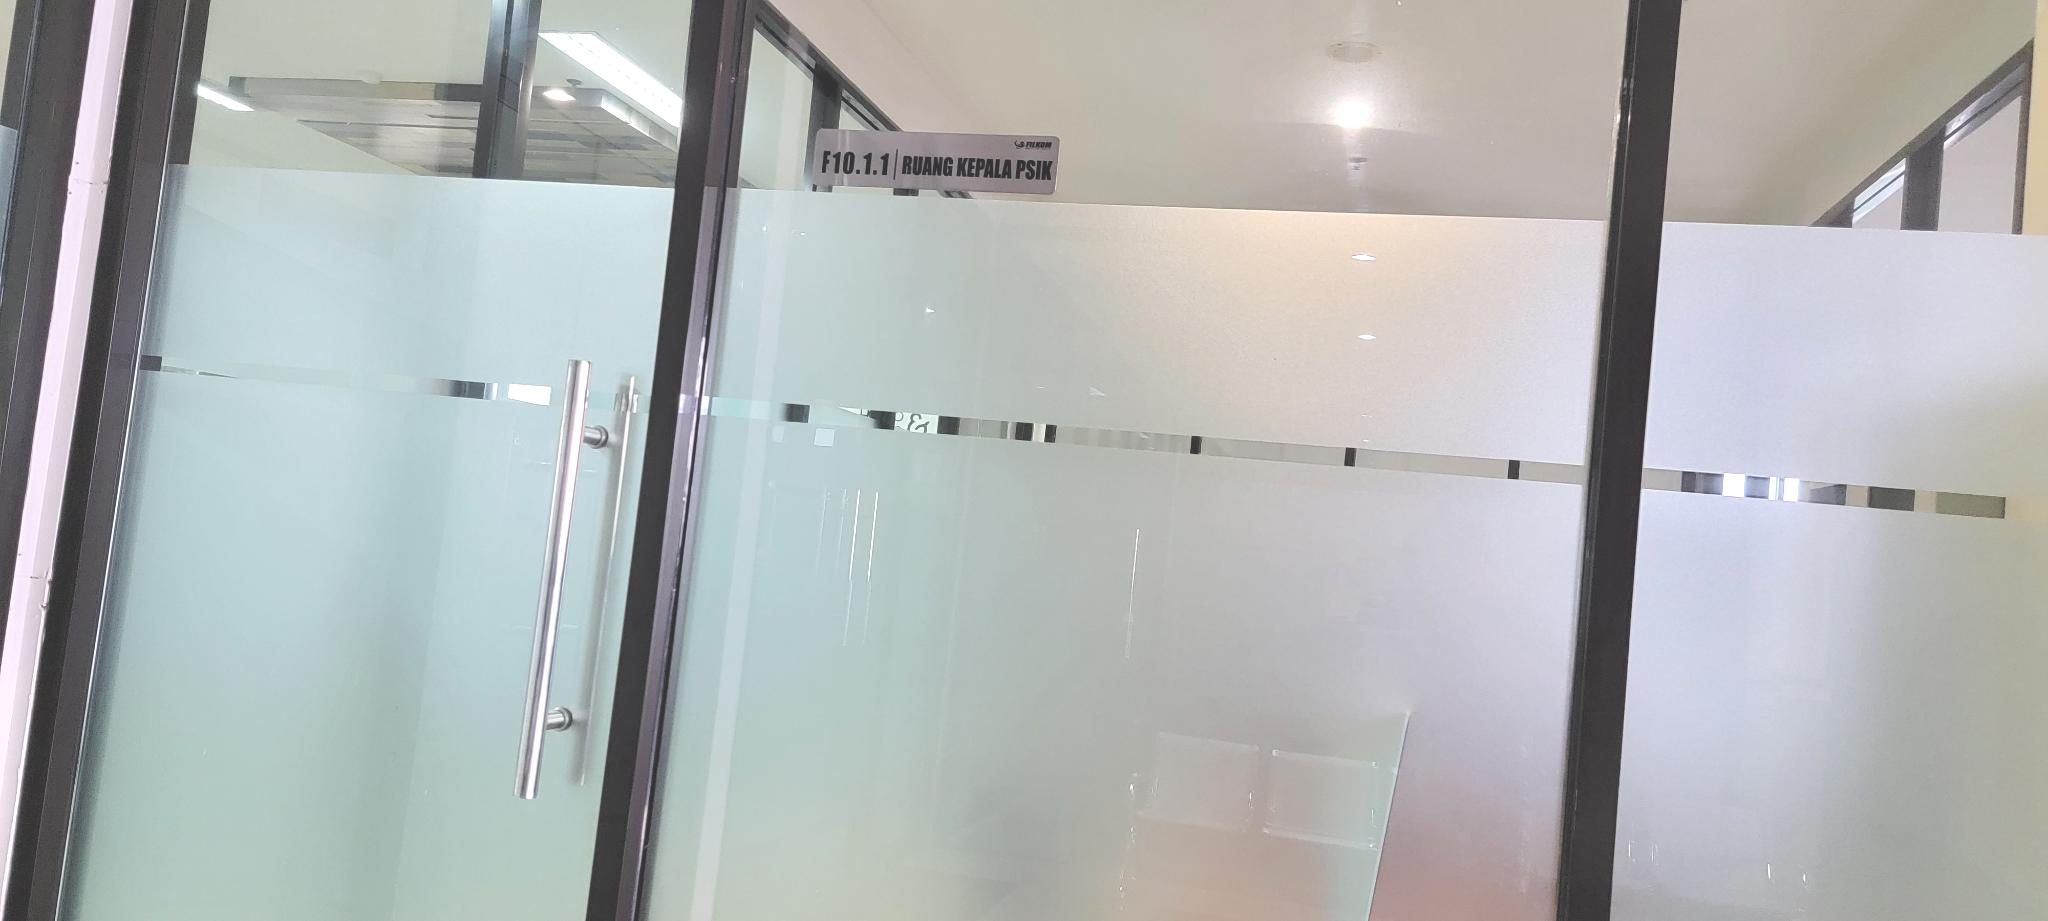plate: (806, 127, 1062, 197)
